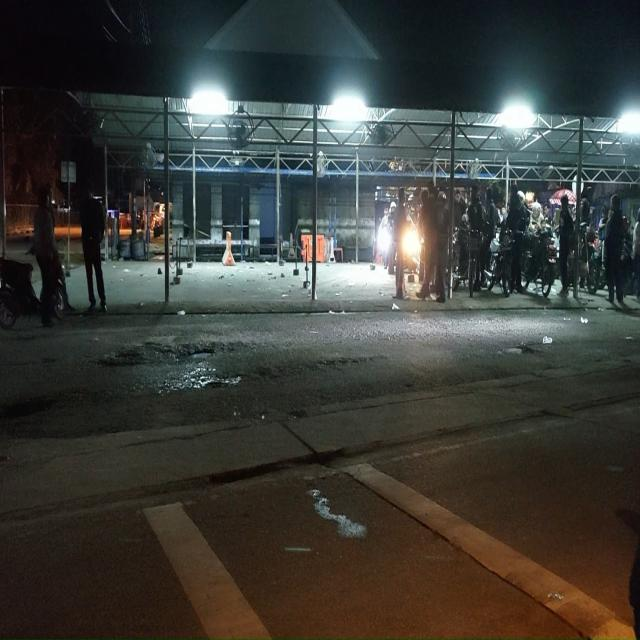Golongan II: (0, 258, 68, 329), (521, 228, 556, 298), (484, 224, 512, 297), (568, 222, 590, 286), (452, 227, 469, 291), (586, 241, 606, 295), (468, 228, 483, 295)
